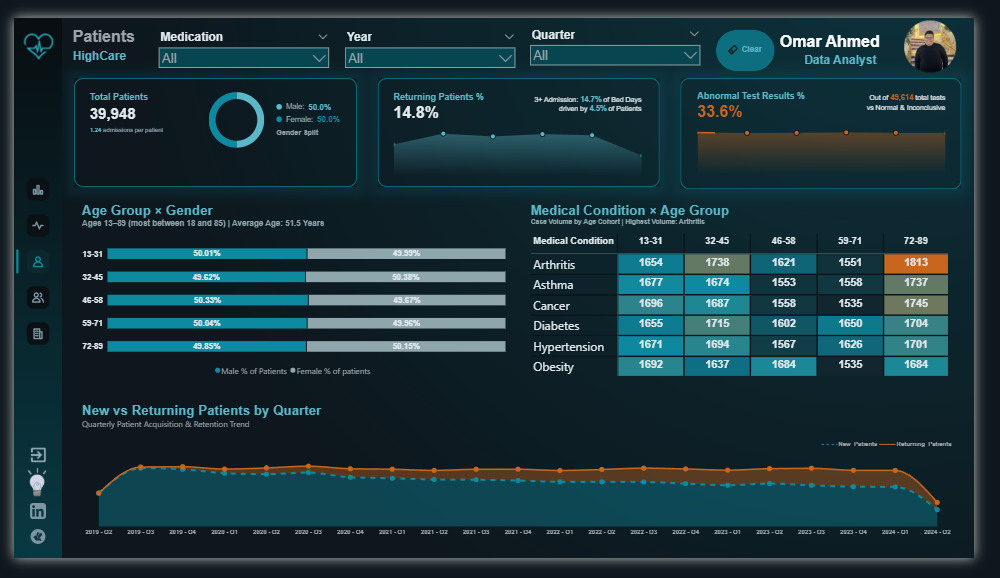

The page's visual inventory and layout, read from the dashboard file:
{"tool":"powerbi","page":{"name":"Patients","canvas":[1920,1080],"ordinal":3},"visuals":[{"type":"shape","box":[726.8,120,564,218],"z":0},{"type":"shape","box":[120,120,566,218],"z":1000},{"type":"shape","box":[1332.5,119.1,562.5,222.5],"z":2000},{"type":"htmlContent443BE3AD55E043BF878BED274D3A6855","title":"KPI card 1","fields":{"content":["Dax_Measures.HTML_Card_AbnormalTests"]},"box":[1332,118,564,224],"z":3000},{"type":"htmlContent443BE3AD55E043BF878BED274D3A6855","title":"KPI card 2","fields":{"content":["Dax_Measures.HTML_Card_Returning"]},"box":[726,120,564,218],"z":4000},{"type":"htmlContent443BE3AD55E043BF878BED274D3A6855","title":"KPI card 4","fields":{"content":["Dax_Measures.HTML_Card_Emergency_Patients"]},"box":[118,120,568,218],"z":5000},{"type":"barChart","title":"Age Group × Gender","fields":{"Category":["Dim_Patients.Age_Category"],"Y":["Dax_Measures.Male_Patients","Dax_Measures.Female_Patients"]},"box":[120,356,879,381],"z":6000},{"type":"pivotTable","title":"Medical Condition × Age Group","fields":{"Columns":["Dim_Patients.Age Group"],"Rows":["Dim_Medical_Conditions.Medical Condition"],"Values":["Dax_Measures.Total Admissions"]},"box":[1017,356,879,381],"z":7000},{"type":"stackedAreaChart","title":"New vs Returning Patients by Quarter","fields":{"Category":["Dim_Date.Year_Quarter"],"Y":["Dax_Measures.New_Patients","Dax_Measures.Returning_Patients_Qtr"]},"box":[120,755,1776,301],"z":8000},{"type":"textbox","title":"Page title","box":[118,20,167,41],"z":9000},{"type":"textbox","title":"Subtitle","box":[118,58,167,41],"z":10000},{"type":"actionButton","title":"Go to Overview","box":[18,313,60,60],"z":11000},{"type":"actionButton","title":"Go to Hospitals","box":[18,385,60,60],"z":12000},{"type":"actionButton","title":"Go to Patients","box":[18,457,60,60],"z":13000},{"type":"actionButton","title":"Go to Doctors","box":[18,529,60,60],"z":14000},{"type":"actionButton","title":"Go to Insurance Companies","box":[18,601,60,60],"z":15000},{"type":"actionButton","title":"LinkedIn","box":[32,970,32,32],"z":16000},{"type":"actionButton","title":"Website","box":[32,1021,32,32],"z":17000},{"type":"image","title":"Logo","box":[14,26,68,64],"z":18000},{"type":"group","id":"g1","title":"Group 1","box":[1526,6,394,104],"z":19000},{"type":"image","box":[1746,6,174,104],"z":20000,"group":"g1"},{"type":"textbox","box":[1526,30,206.5,78.1],"z":21000,"group":"g1"},{"type":"actionButton","box":[1400,20,125,90],"z":24001},{"type":"slicer","fields":{"Values":["Dim_Medications.Medication"]},"box":[285,25,350,87.5],"z":24002},{"type":"slicer","fields":{"Values":["Dim_Date.Year"]},"box":[656.7,25,350,90],"z":24003},{"type":"slicer","fields":{"Values":["Dim_Date.Quarter"]},"box":[1028.3,20,350,90],"z":24004},{"type":"image","box":[10,837.5,77.5,72.5],"z":24005},{"type":"image","box":[18.1,892.2,59.7,72.4],"z":24006}]}

Visuals, with their boxes in screenshot pixels (x1, y1, x2, y2), scaled from the page's 1920x1080 canvas onto the 1000x578 screenshot:
shape: BBox(379, 64, 672, 181)
shape: BBox(63, 64, 357, 181)
shape: BBox(694, 64, 987, 183)
"KPI card 1" htmlContent443BE3AD55E043BF878BED274D3A6855: BBox(694, 63, 988, 183)
"KPI card 2" htmlContent443BE3AD55E043BF878BED274D3A6855: BBox(378, 64, 672, 181)
"KPI card 4" htmlContent443BE3AD55E043BF878BED274D3A6855: BBox(61, 64, 357, 181)
"Age Group × Gender" barChart: BBox(63, 191, 520, 394)
"Medical Condition × Age Group" pivotTable: BBox(530, 191, 988, 394)
"New vs Returning Patients by Quarter" stackedAreaChart: BBox(63, 404, 988, 565)
"Page title" textbox: BBox(61, 11, 148, 33)
"Subtitle" textbox: BBox(61, 31, 148, 53)
"Go to Overview" actionButton: BBox(9, 168, 41, 200)
"Go to Hospitals" actionButton: BBox(9, 206, 41, 238)
"Go to Patients" actionButton: BBox(9, 245, 41, 277)
"Go to Doctors" actionButton: BBox(9, 283, 41, 315)
"Go to Insurance Companies" actionButton: BBox(9, 322, 41, 354)
"LinkedIn" actionButton: BBox(17, 519, 33, 536)
"Website" actionButton: BBox(17, 546, 33, 564)
"Logo" image: BBox(7, 14, 43, 48)
"Group 1" group: BBox(795, 3, 999, 59)
image: BBox(909, 3, 999, 59)
textbox: BBox(795, 16, 902, 58)
actionButton: BBox(729, 11, 794, 59)
slicer - Dim_Medications.Medication: BBox(148, 13, 331, 60)
slicer - Dim_Date.Year: BBox(342, 13, 524, 62)
slicer - Dim_Date.Quarter: BBox(536, 11, 718, 59)
image: BBox(5, 448, 46, 487)
image: BBox(9, 477, 41, 516)
